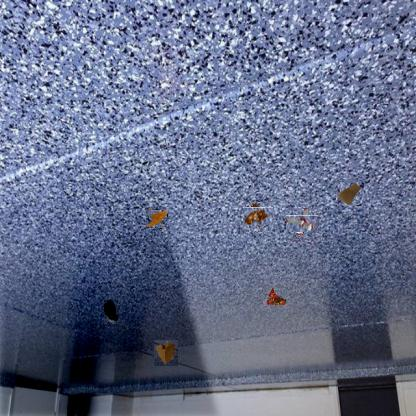dirty: (337, 179, 364, 206), (290, 211, 315, 236), (154, 340, 178, 366), (246, 205, 271, 229), (262, 284, 286, 306)
liquid: (147, 208, 167, 228), (104, 300, 118, 324)
